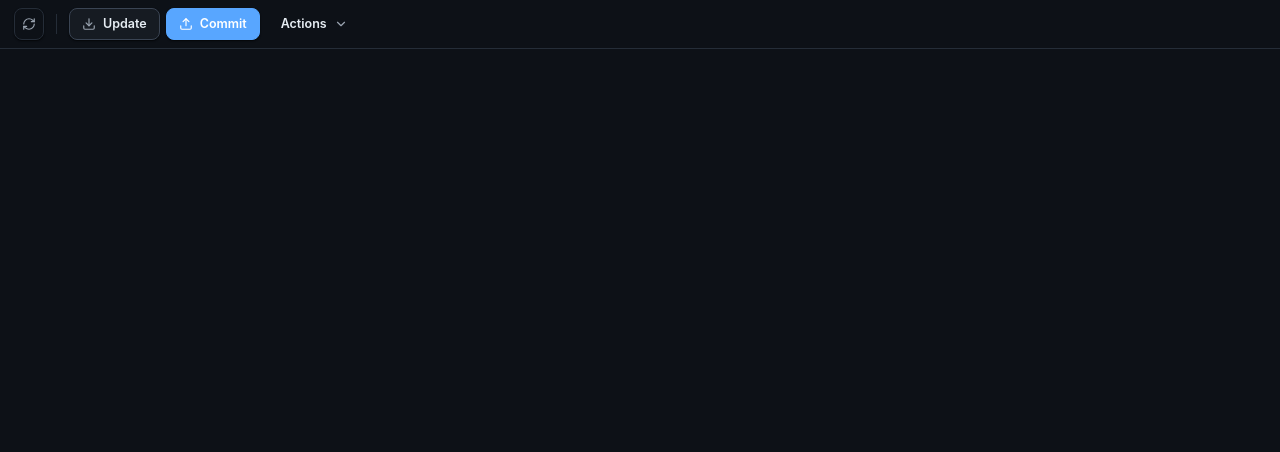
Test: SVN workflow reachability › exposes common working-copy actions from toolbar controls
The width and height of the screenshot is (1280, 452).
Expected: the button with aria-label "Update working copy from repository" is shown, [69,8,160,40]
Expected: the button with aria-label "Commit changes" is shown, [166,8,260,40]
# The remaining file actions are reachable via the "File actions" menu.
Click the button with aria-label "File actions": [314, 24] box [268,8,361,40]
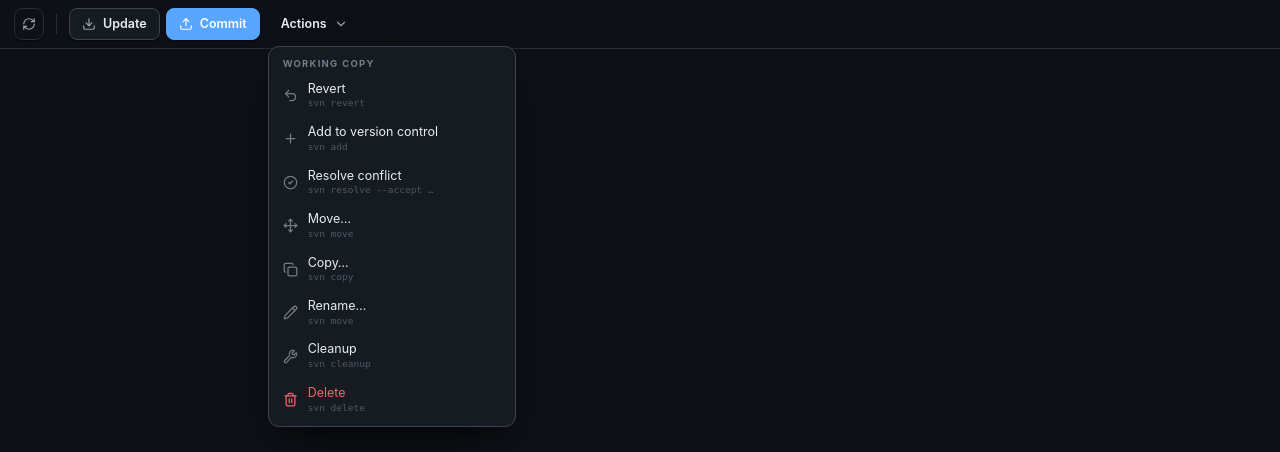
Expected: the menu item "Revert svn revert" is shown, [274,74,510,117]
Expected: the menu item "Add to version control svn add" is shown, [274,117,510,161]
Expected: the menu item "Delete svn delete" is shown, [274,378,510,421]
